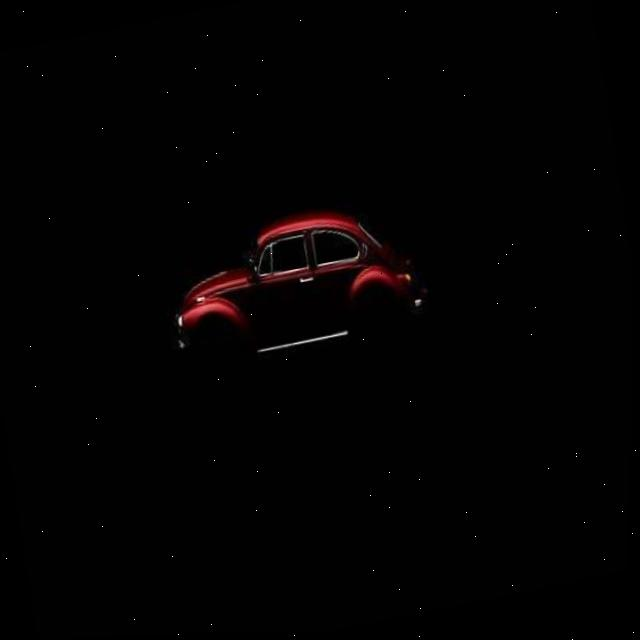vehicle: (166, 199, 441, 393)
